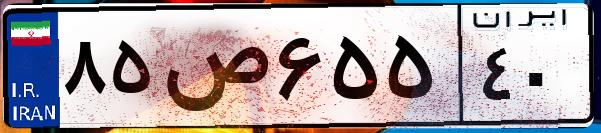0: (525, 38, 570, 115)
4: (475, 38, 525, 113)
5: (385, 28, 445, 110), (330, 28, 385, 110), (110, 28, 158, 98)
6: (270, 28, 330, 110)
8: (57, 26, 110, 100)
ص: (158, 20, 270, 120)
